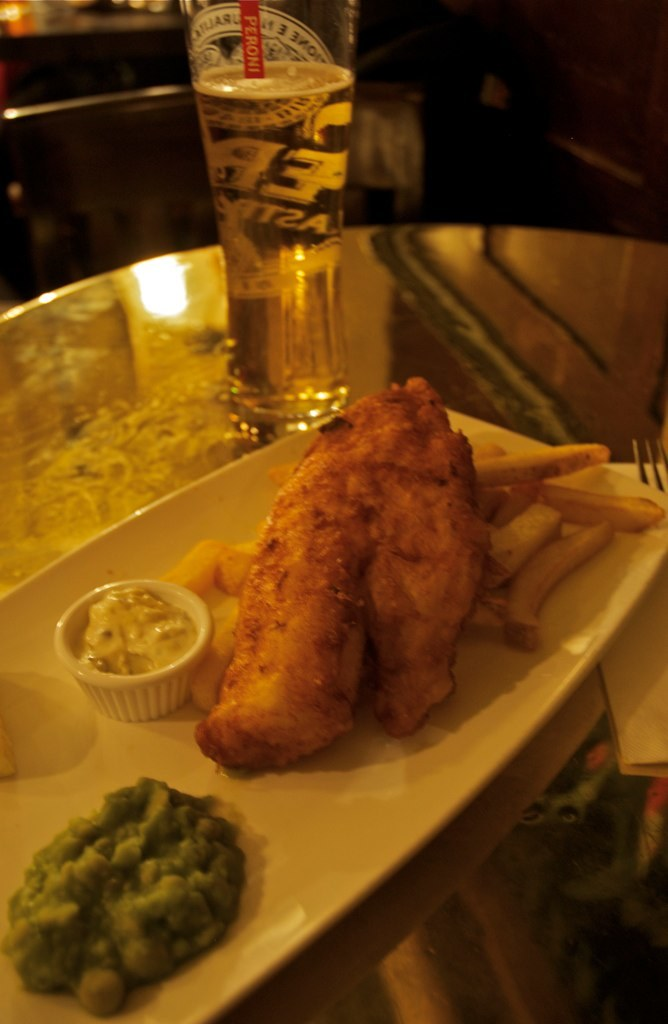French fries: (207, 426, 633, 664)
